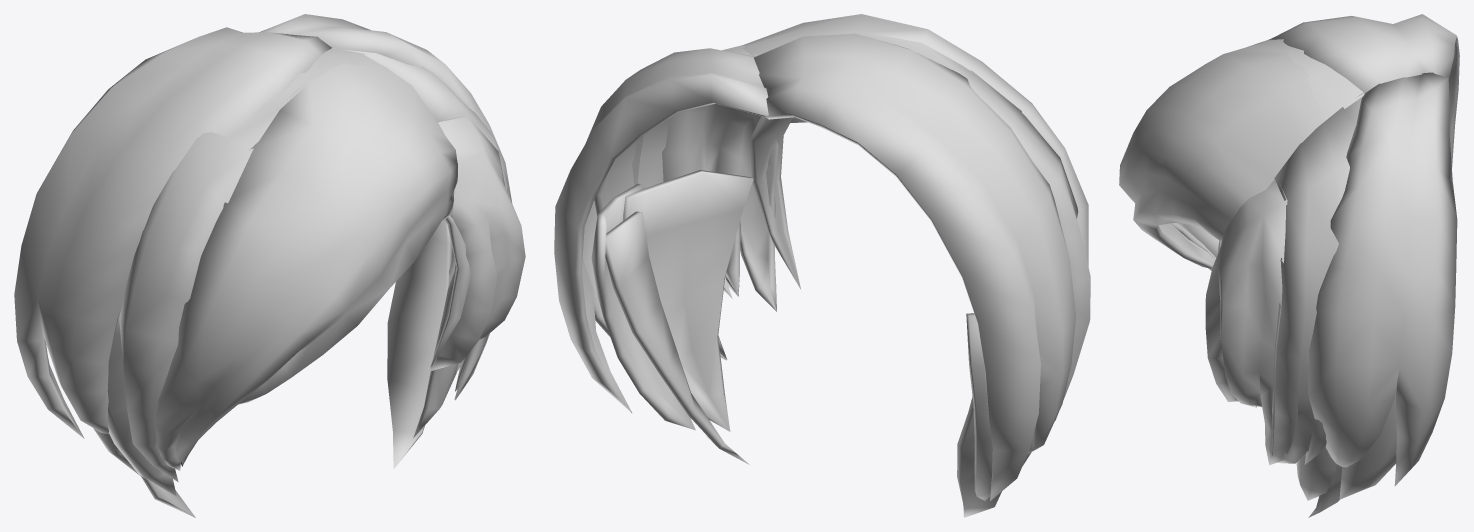
Rendered from Front-Hair 1.fbx.
The picture shows the model from 3 angles, left to right: view 1: azimuth 30°, elevation 25°; view 2: azimuth 150°, elevation 25°; view 3: azimuth 270°, elevation 25°; orthographic projection. The views are drawn at different scales.
Visible parts, largest first — view 1: カスタム少女_mesh; view 2: カスタム少女_mesh; view 3: カスタム少女_mesh.
Boxes of the visible parts, <box> form: カスタム少女_mesh: <box>14,14,525,517</box>; カスタム少女_mesh: <box>554,14,1090,517</box>; カスタム少女_mesh: <box>1119,14,1459,517</box>.
Bounding box in the file's own units: 27.24 × 24.55 × 17.53.
